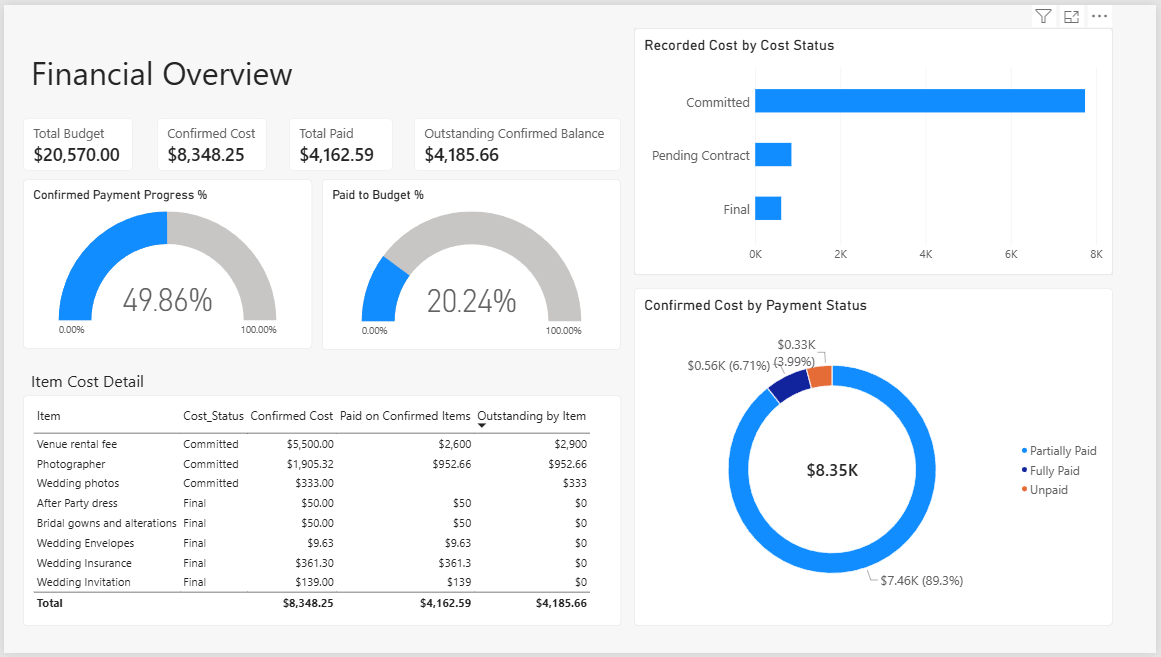

The dashboard page shown, as its layout file describes it:
{"tool":"powerbi","page":{"name":"Financial Overview","canvas":[1920,1080],"ordinal":0},"visuals":[{"type":"cardVisual","fields":{"Data":["BudgetItems.Total Budget"]},"box":[31.7,187.9,183.3,88.3],"z":0},{"type":"gauge","fields":{"Y":["BudgetItems.Paid to Budget %"]},"box":[530,289.3,498.3,285],"z":1000},{"type":"clusteredBarChart","title":"Recorded Cost by Cost Status","fields":{"Category":["BudgetItems.Cost_Status"],"Y":["BudgetItems.Total Recorded Cost"]},"box":[1050,38.3,798.3,411.7],"z":2000},{"type":"cardVisual","fields":{"Data":["BudgetItems.Confirmed Cost"]},"box":[255,187.9,183.3,88.3],"z":3000},{"type":"cardVisual","fields":{"Data":["FactPayments.Outstanding Confirmed Balance"]},"box":[683.3,187.9,345,88.3],"z":4000},{"type":"tableEx","fields":{"Values":["BudgetItems.Item","BudgetItems.Cost_Status","BudgetItems.Confirmed Cost","FactPayments.Paid on Confirmed Items","BudgetItems.Outstanding by Item"]},"box":[31.7,650,996.7,385],"z":5000},{"type":"donutChart","title":"Confirmed Cost by Payment Status","fields":{"Category":["BudgetItems.Payment_Status"],"Y":["BudgetItems.Confirmed Cost"]},"box":[1050,471.7,798.3,563.3],"z":6000},{"type":"gauge","fields":{"Y":["FactPayments.Confirmed Payment Progress %"]},"box":[31.7,289.3,481.7,283.3],"z":7000},{"type":"cardVisual","fields":{"Data":["FactPayments.Total Paid"]},"box":[475,187.9,173.3,88.3],"z":8000},{"type":"textbox","box":[45,75,625,96.7],"z":9000},{"type":"textbox","box":[45,608.3,210,41.7],"z":10000}]}

Visuals, with their boxes in screenshot pixels (x1, y1, x2, y2), scaled from the page's 1920x1080 canvas onto the 1161x657 screenshot:
cardVisual - BudgetItems.Total Budget: [19,114,130,168]
gauge - BudgetItems.Paid to Budget %: [320,176,622,349]
"Recorded Cost by Cost Status" clusteredBarChart: [635,23,1118,274]
cardVisual - BudgetItems.Confirmed Cost: [154,114,265,168]
cardVisual - FactPayments.Outstanding Confirmed Balance: [413,114,622,168]
tableEx - BudgetItems.Item x BudgetItems.Cost_Status: [19,395,622,630]
"Confirmed Cost by Payment Status" donutChart: [635,287,1118,630]
gauge - FactPayments.Confirmed Payment Progress %: [19,176,310,348]
cardVisual - FactPayments.Total Paid: [287,114,392,168]
textbox: [27,46,405,104]
textbox: [27,370,154,395]
